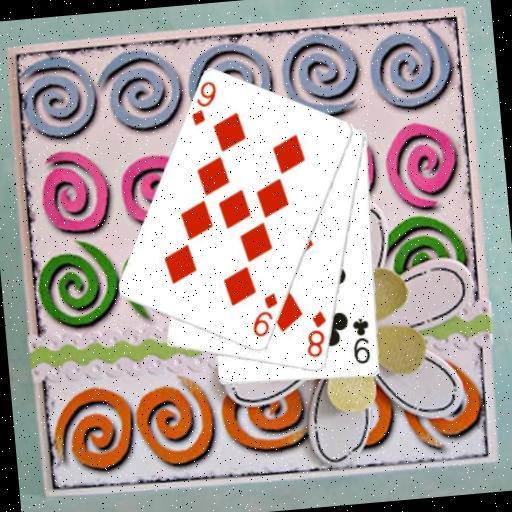8D: (301, 307, 332, 360)
9C: (349, 315, 375, 367)
9D: (186, 78, 222, 129), (246, 290, 282, 340)
